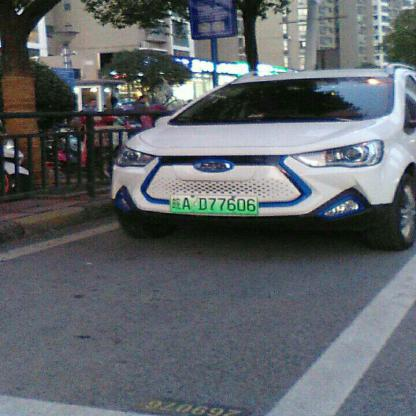lp: (170, 195, 257, 213)
